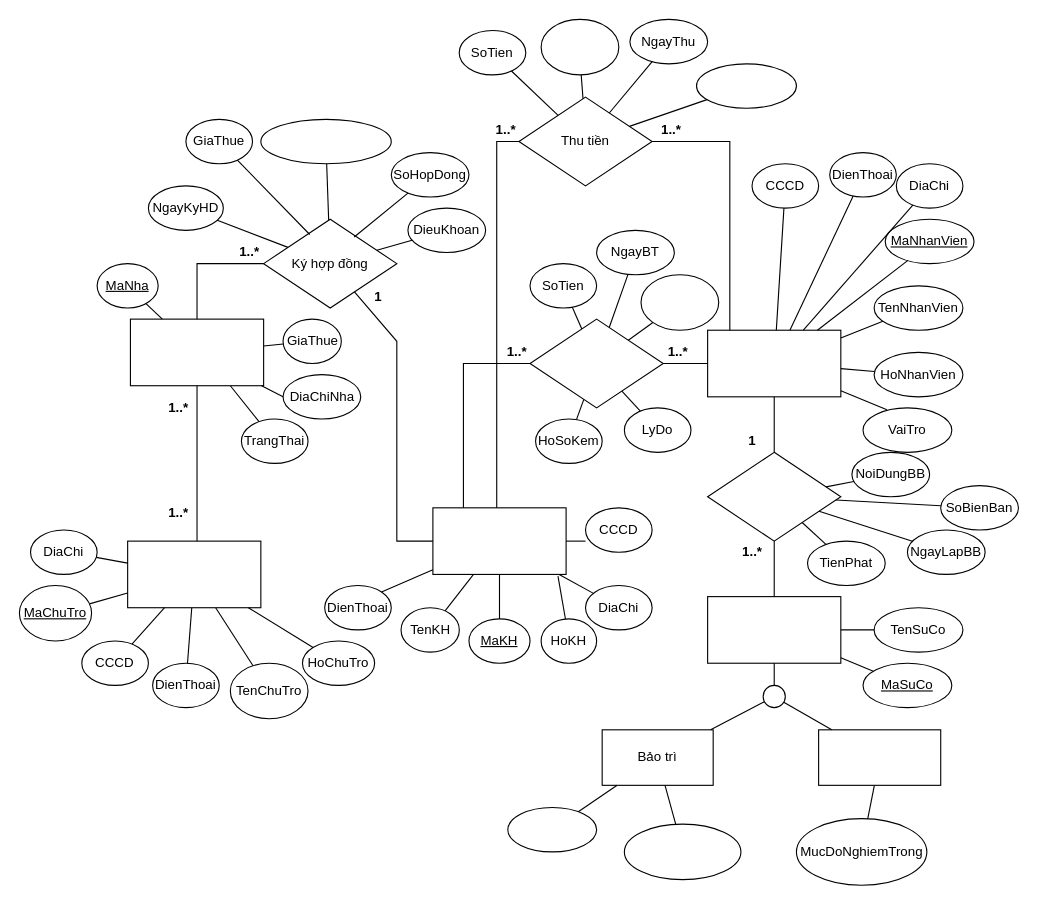
Image size: 1038x905. Some labels were removed from this diagram. Here are the shapes that lost their labels. From the top down, the centre of each, then its label:
the point at 579,46: SoPhieuThu
the point at 745,85: CacThangThu
the point at 325,141: ThoiGianHieuLuc
the point at 679,302: SoPhieuBT
the point at 196,352: Nhà Trọ
the point at 596,363: Bồi thường
the point at 774,363: Nhân viên
the point at 774,496: Lập biên bản sự cố
the point at 499,540: Khách hàng
the point at 194,574: Chủ trọ
the point at 774,629: Sự cố
the point at 879,757: Sự cố tài sản
the point at 552,829: ChiPhiBaoTri
the point at 682,851: TrangThaiBaoTri
